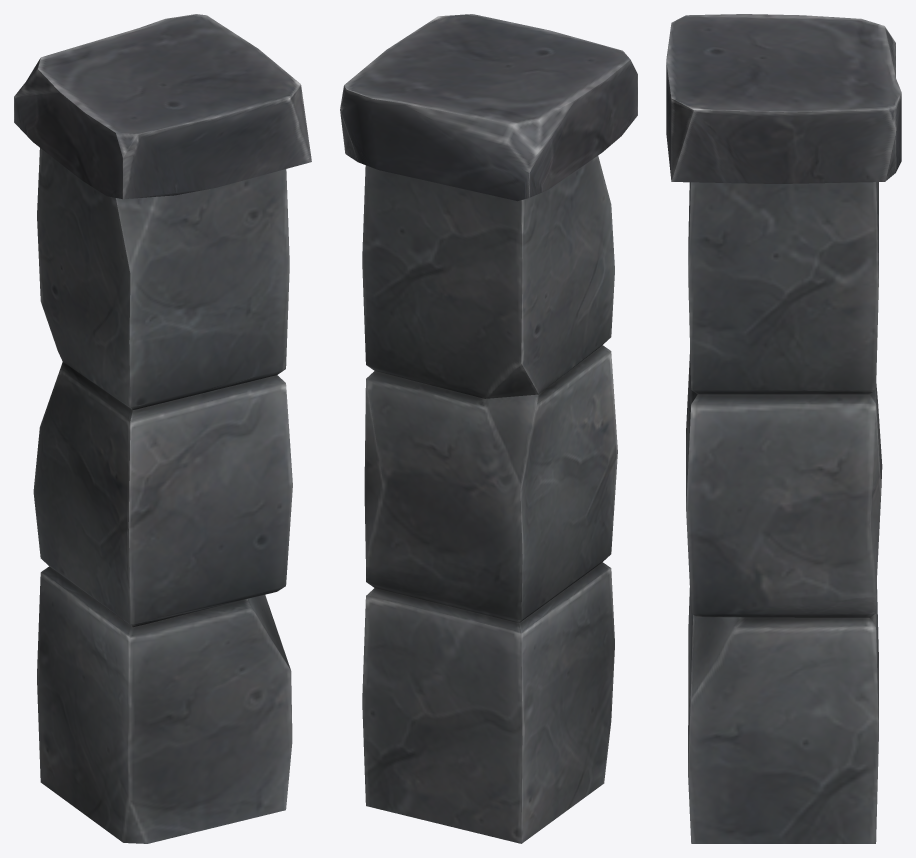
Rendered from Column01.FBX.
3 renders of one model, left to right at view 1: azimuth 30°, elevation 25°; view 2: azimuth 150°, elevation 25°; view 3: azimuth 270°, elevation 25°, orthographic. The views are drawn at different scales.
Visible parts, largest first — view 1: Column01; view 2: Column01; view 3: Column01.
Boxes of the visible parts, x1=… form: Column01: x1=14, y1=14, x2=311, y2=843; Column01: x1=340, y1=14, x2=637, y2=843; Column01: x1=666, y1=14, x2=901, y2=843.
Bounding box in the file's own units: 0.8808 × 0.8917 × 3.1.
